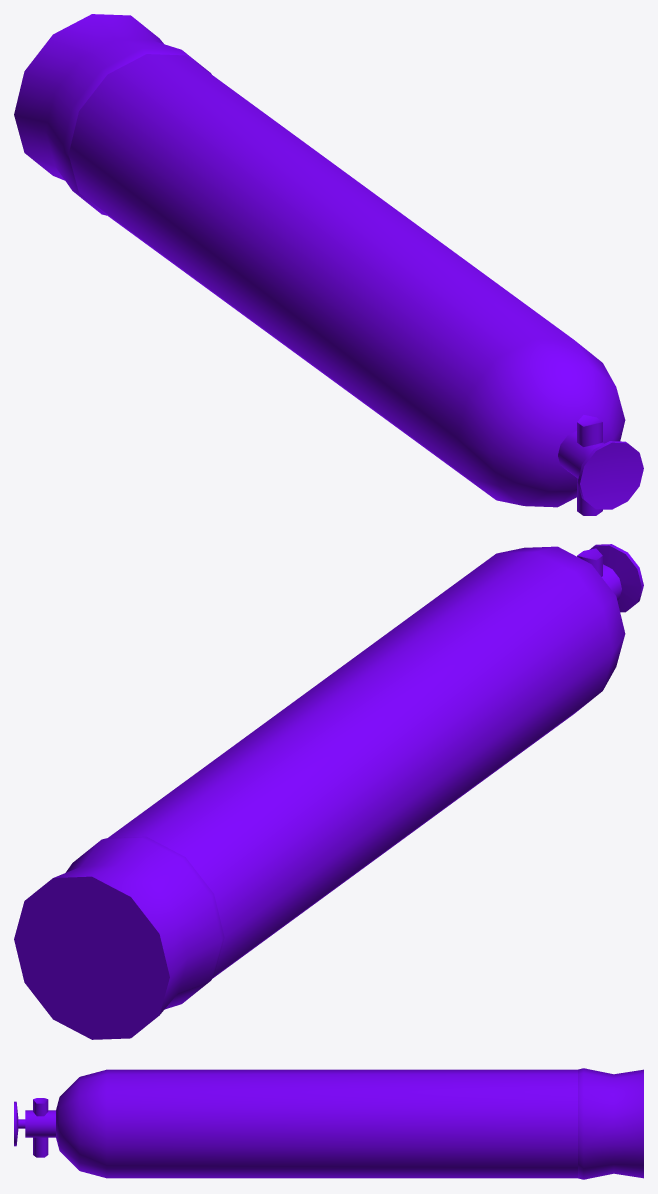
The model's file is gaztank2.gltf.
3 renders of one model, top to bottom at view 1: azimuth 30°, elevation 25°; view 2: azimuth 150°, elevation 25°; view 3: azimuth 270°, elevation 25°, orthographic. The views are drawn at different scales.
Visible parts, largest first — view 1: LCM_gas_tank_low001; view 2: LCM_gas_tank_low001; view 3: LCM_gas_tank_low001.
Part boxes in pixels (x1,y1,x2,y2): LCM_gas_tank_low001: (14, 14, 643, 515); LCM_gas_tank_low001: (14, 544, 643, 1039); LCM_gas_tank_low001: (14, 1068, 643, 1179).
Bounding box in the file's own units: 23 × 23 × 129.
